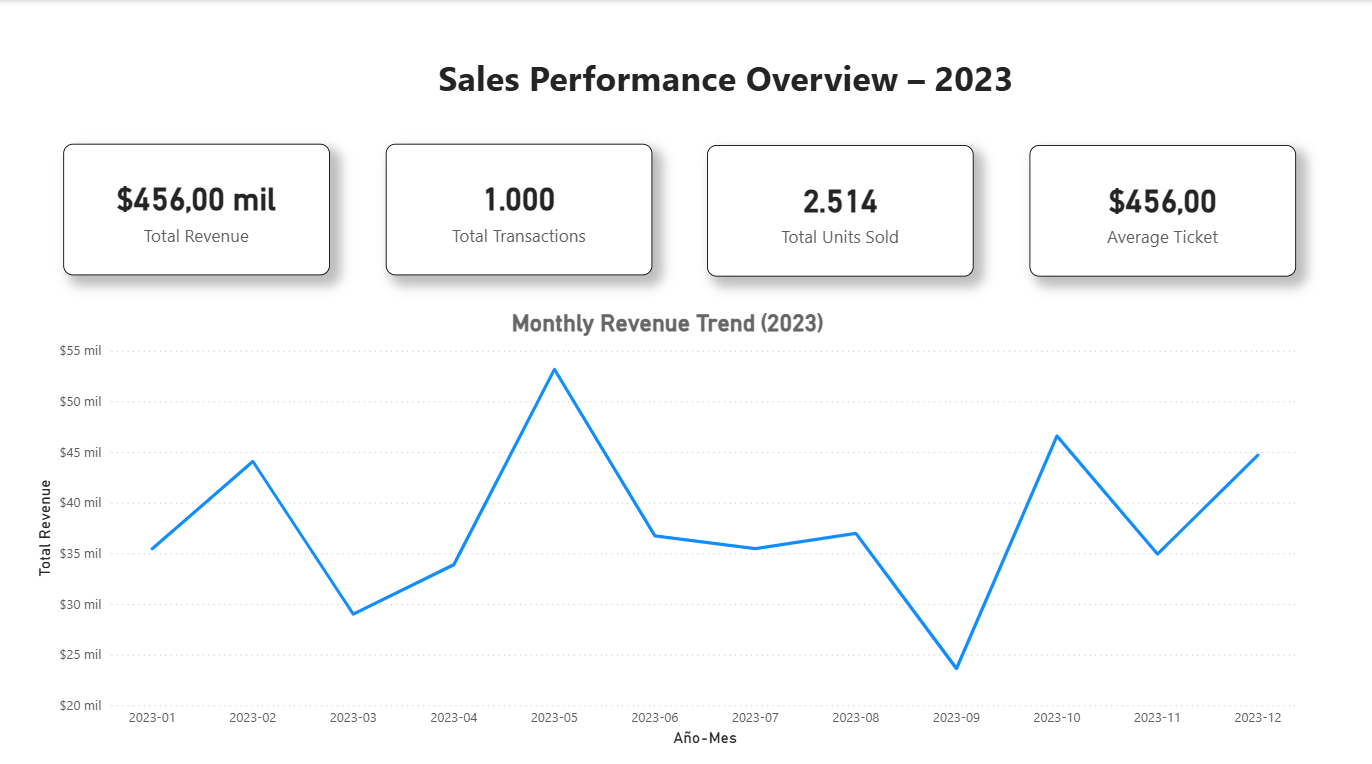

What the dashboard file says about the page in this screenshot:
{"tool":"powerbi","page":{"name":"Sales Overview","canvas":[1280,720],"ordinal":0},"visuals":[{"type":"card","fields":{"Values":["Fact_Sales.Total Revenue"]},"box":[61.7,133.5,248,122],"z":0},{"type":"card","fields":{"Values":["Fact_Sales.Total Transactions"]},"box":[361.4,133.5,248,122],"z":1000},{"type":"card","fields":{"Values":["Fact_Sales.Total Units Sold"]},"box":[661,134.8,248,122],"z":2000},{"type":"card","fields":{"Values":["Fact_Sales.Average Ticket"]},"box":[960.6,134.8,248,122],"z":3000},{"type":"lineChart","title":"Monthly Revenue Trend (2023)","fields":{"Y":["Fact_Sales.Total Revenue"],"Category":["Calendar.Año-Mes"]},"box":[31.6,288.2,1184.2,411.7],"z":4000},{"type":"textbox","box":[360.9,45.3,635.3,52.1],"z":4001}]}

Visuals, with their boxes in screenshot pixels (x1, y1, x2, y2), scaled from the page's 1280x720 canvas onto the 1372x764 screenshot:
card - Fact_Sales.Total Revenue: (66,142,332,271)
card - Fact_Sales.Total Transactions: (387,142,653,271)
card - Fact_Sales.Total Units Sold: (709,143,974,272)
card - Fact_Sales.Average Ticket: (1030,143,1295,272)
"Monthly Revenue Trend (2023)" lineChart: (34,306,1303,743)
textbox: (387,48,1068,103)
